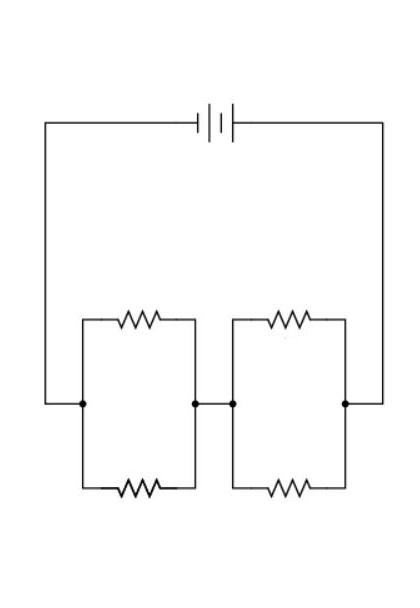resistor: (102, 286, 176, 348), (97, 467, 178, 505), (255, 291, 318, 339), (258, 465, 324, 495)
